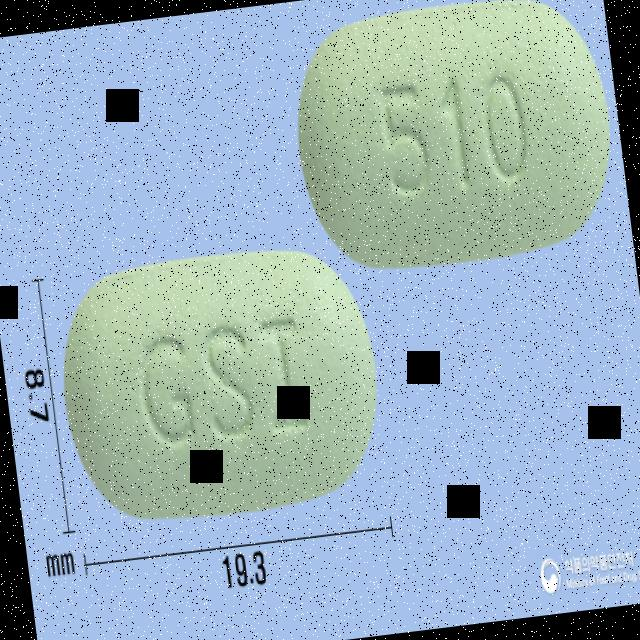Genvoya: (47, 235, 392, 535), (282, 0, 624, 280)
